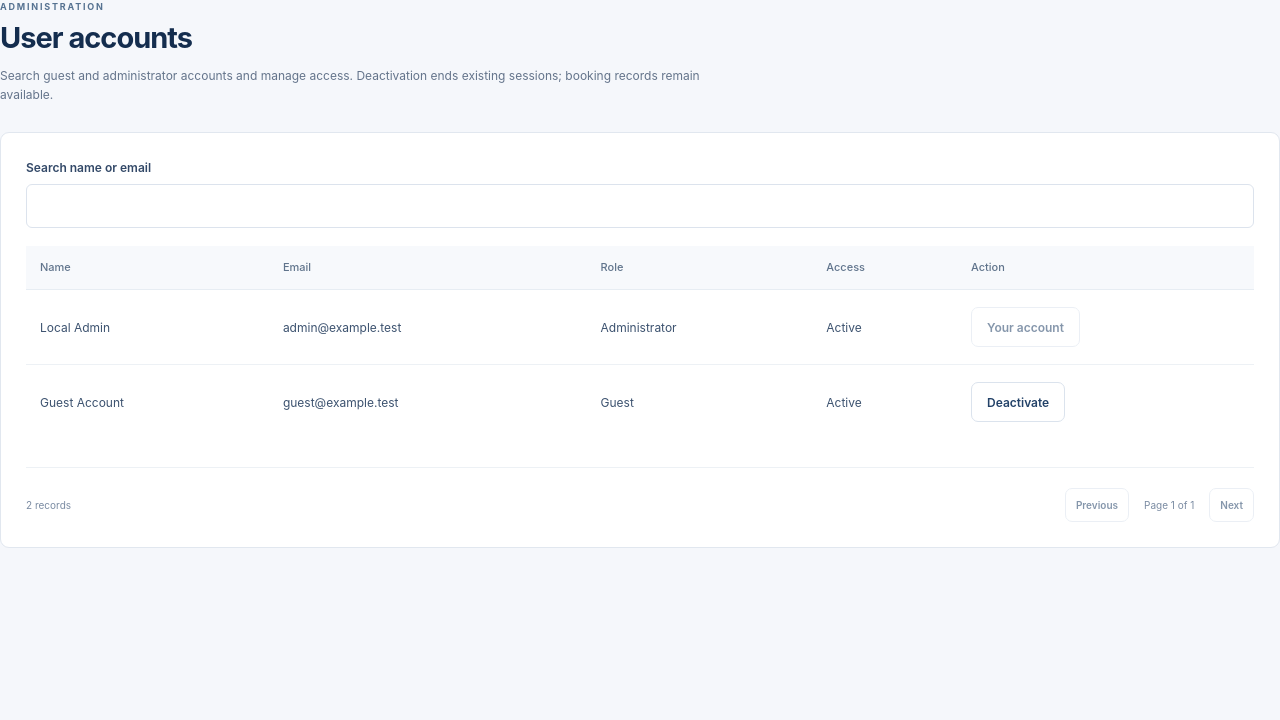
requires confirmation before deactivation and prevents changing your own access
Expected: the button "Your account" is disabled, [971, 307, 1080, 347]
What coordinates should you click on to do the following:
click the button "Deactivate"
I would click on:
 (1018, 402)
Its box is [971, 382, 1065, 422].
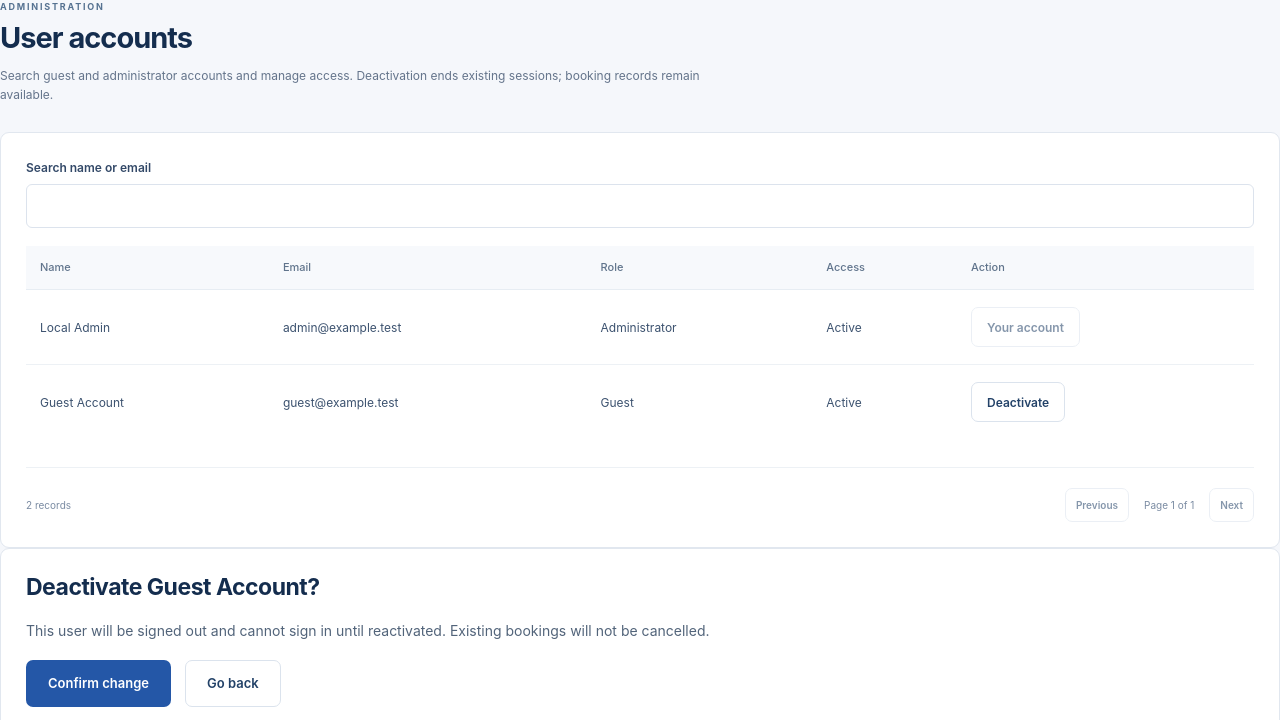
Expected: the text "Existing bookings will not be cancelled" is shown, [26, 622, 710, 639]
What coordinates should you click on to do the following:
click the button "Confirm change"
I would click on:
 (98, 684)
Its box is [26, 660, 171, 707].
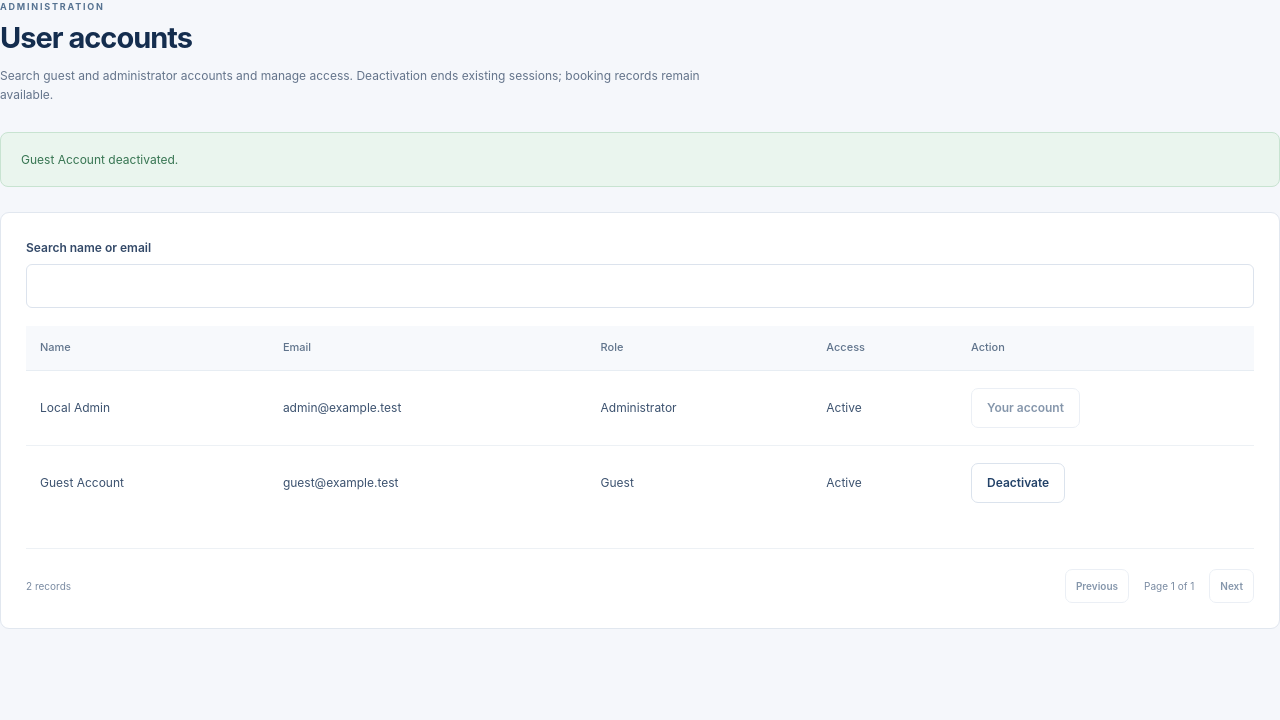
Expected: the message "Guest Account deactivated." is shown, [0, 132, 1279, 187]
